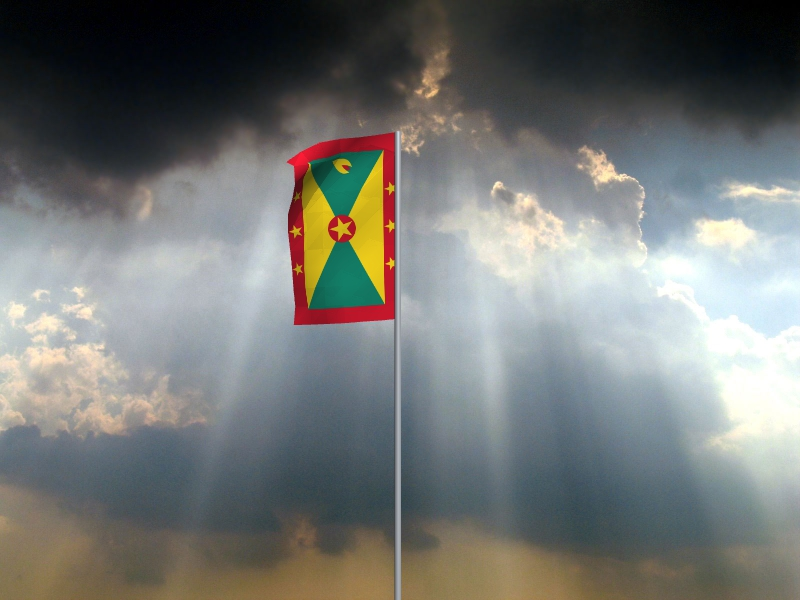gd: (286, 133, 395, 327)
